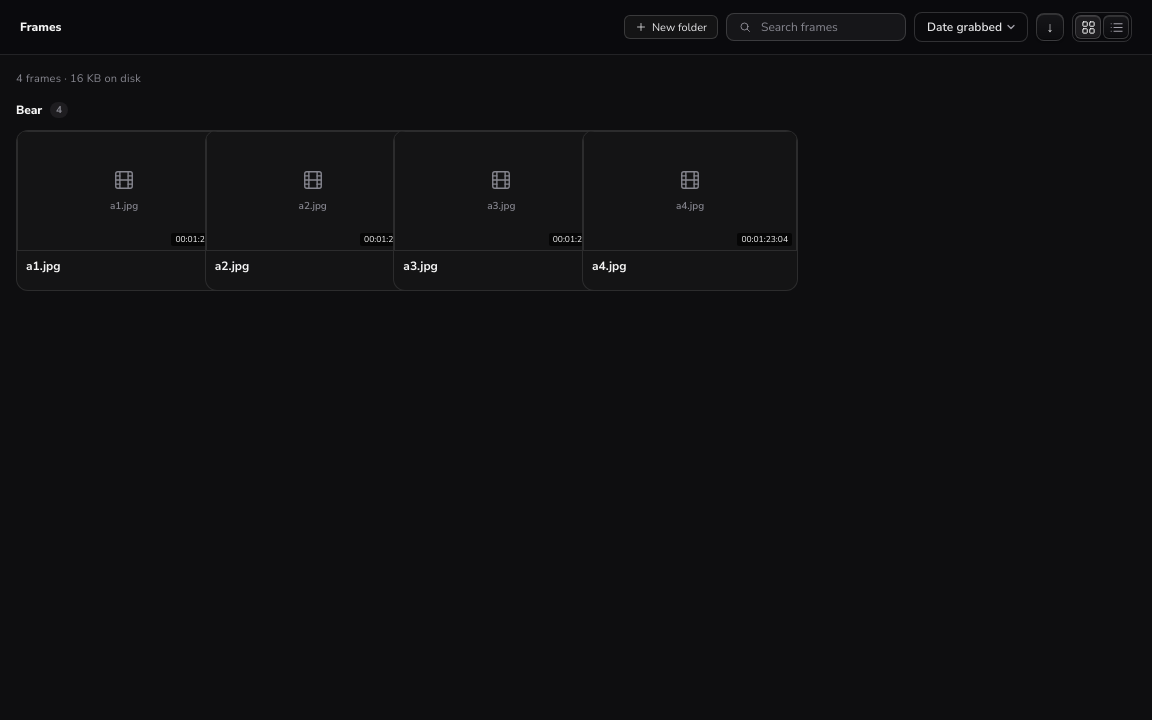
Scenario: selecting more than one frame › a single click still opens the viewer on double-click, not on the first
This screenshot has width=1152, height=720.
Click the button with class "cp-lib-card" showing "a1.jpg 00:01:23:04 a1.jpg" at (124, 211), box [16,130,232,291]
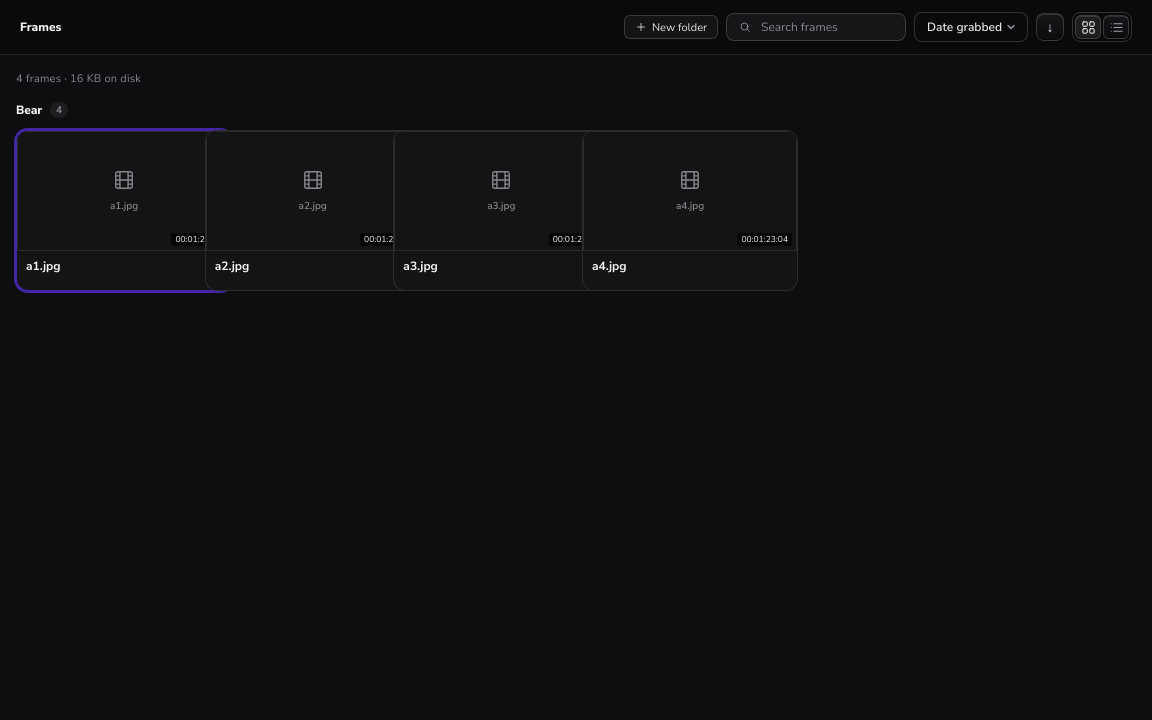
Double-click the button with class "cp-lib-card" showing "a1.jpg 00:01:23:04 a1.jpg" at (124, 211), box [16,130,232,291]
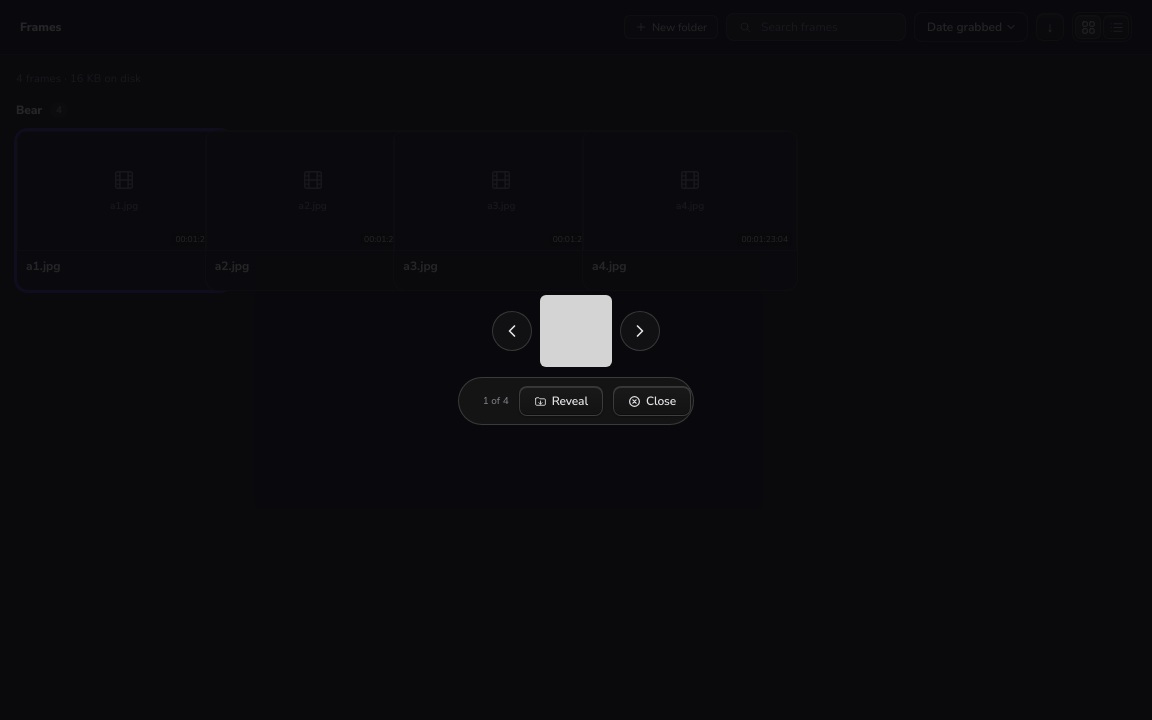
Expected: the dialog named "Frame" is shown, [458,295,694,425]
